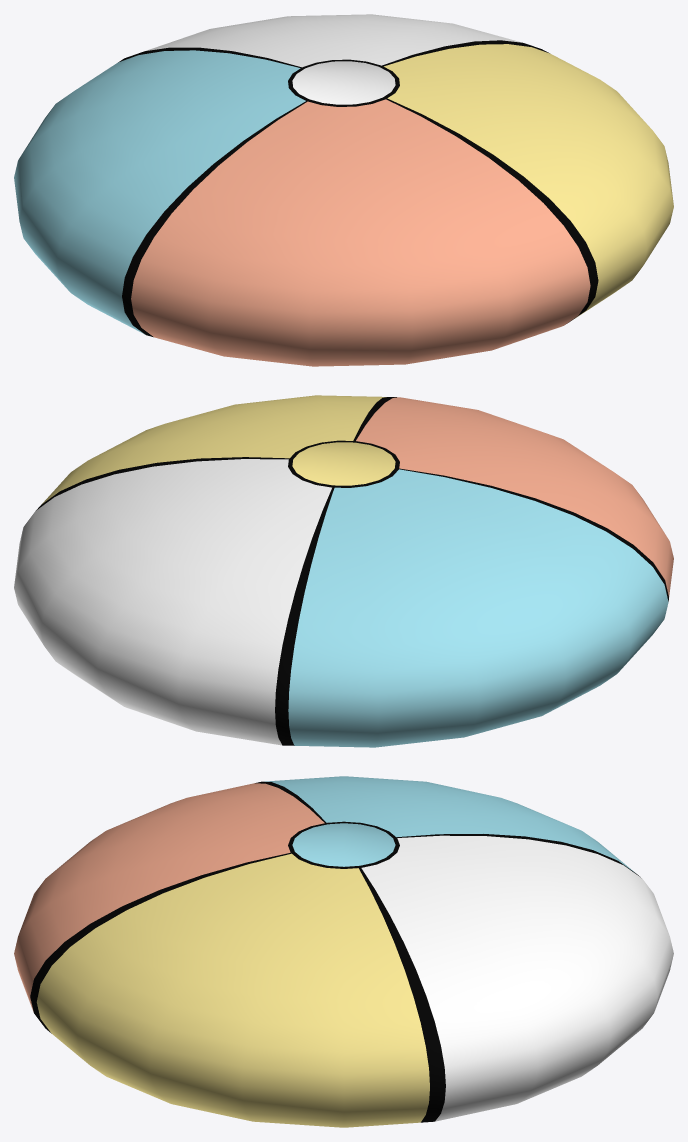
File: CAM2.fbx
3 renders of one model, top to bottom at view 1: azimuth 30°, elevation 25°; view 2: azimuth 150°, elevation 25°; view 3: azimuth 270°, elevation 25°, orthographic.
Parts seen in each view (by area): view 1: polySurface2; view 2: polySurface2; view 3: polySurface2.
Part boxes in pixels (bbox=[...]): polySurface2: bbox=[14, 14, 673, 366]; polySurface2: bbox=[14, 395, 673, 747]; polySurface2: bbox=[14, 776, 673, 1127].
Size of the model in its own units: 105 by 29.46 by 105.
